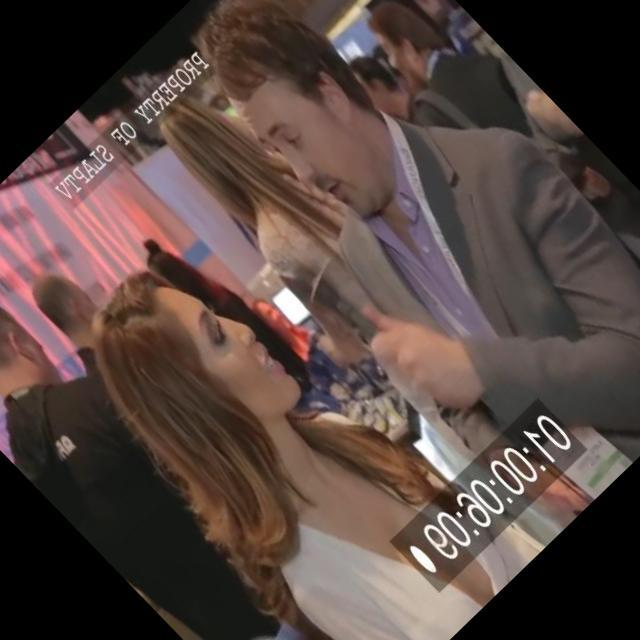person: (129, 0, 640, 541), (51, 229, 518, 640), (0, 270, 299, 640), (137, 72, 377, 316), (357, 0, 530, 149), (9, 252, 142, 387)
